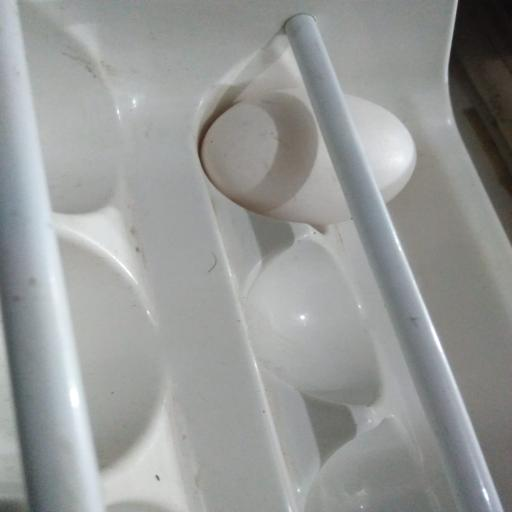telur: (200, 86, 349, 226), (346, 95, 416, 202)
